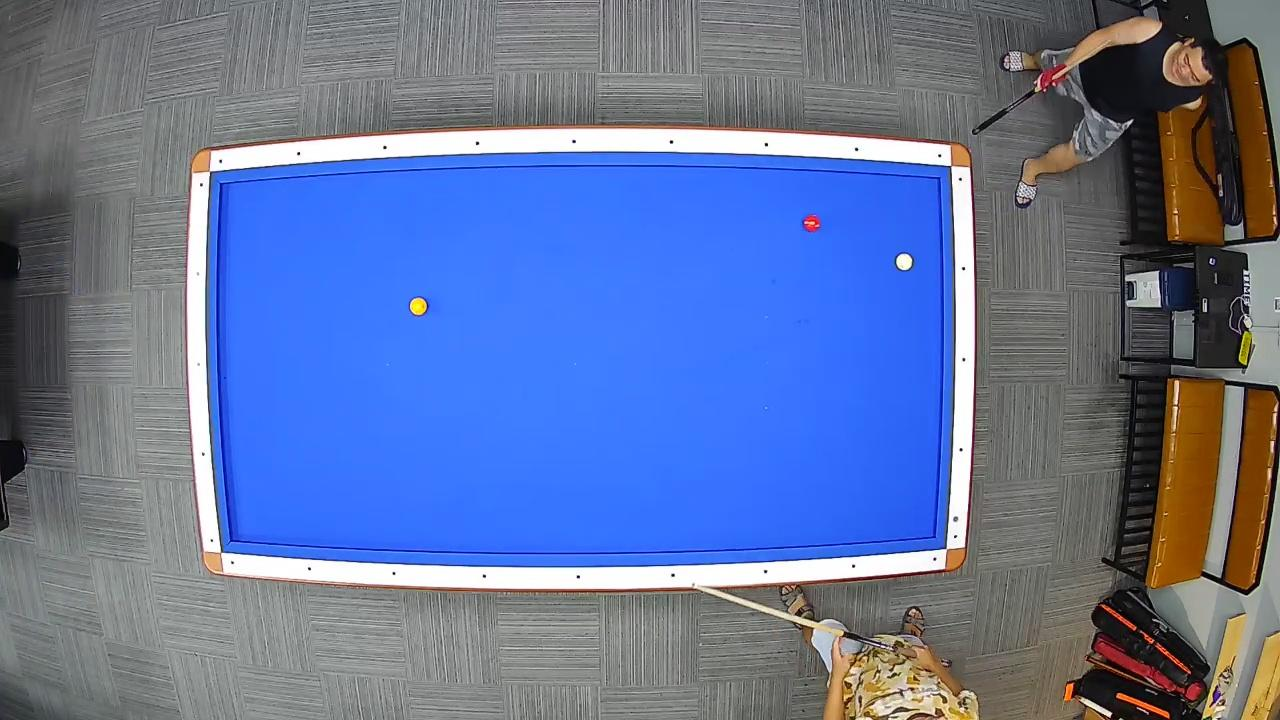Red: (802, 214, 822, 234)
White: (894, 252, 914, 274)
Yellow: (408, 294, 430, 318)
